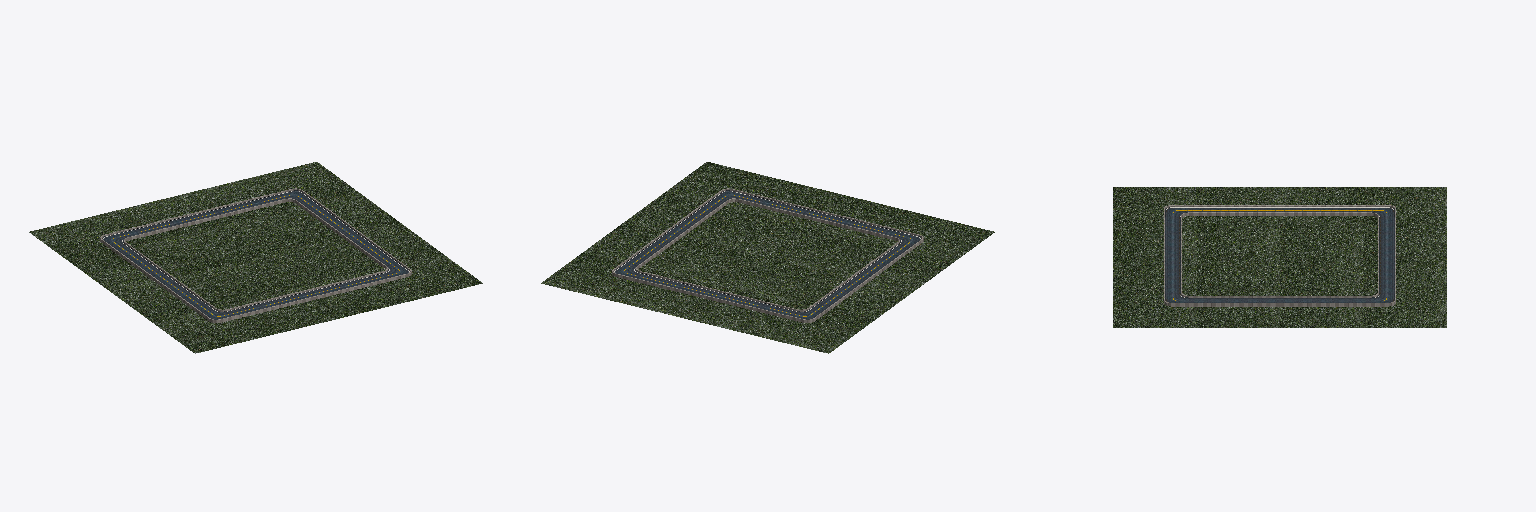
3 renders of one model, left to right at view 1: azimuth 30°, elevation 25°; view 2: azimuth 150°, elevation 25°; view 3: azimuth 270°, elevation 25°, orthographic.
Visible parts, largest first — view 1: Plane, Cube.001; view 2: Plane, Cube.001; view 3: Plane, Cube.001.
Boxes of the visible parts, <box> form: Plane: <box>29,162,482,353</box>; Cube.001: <box>100,188,411,322</box>; Plane: <box>541,162,994,353</box>; Cube.001: <box>612,188,923,322</box>; Plane: <box>1113,187,1446,327</box>; Cube.001: <box>1164,205,1395,306</box>.
Size of the model in its own units: 25.65 by 0.29 by 25.65.
24 materials, 2 textured.